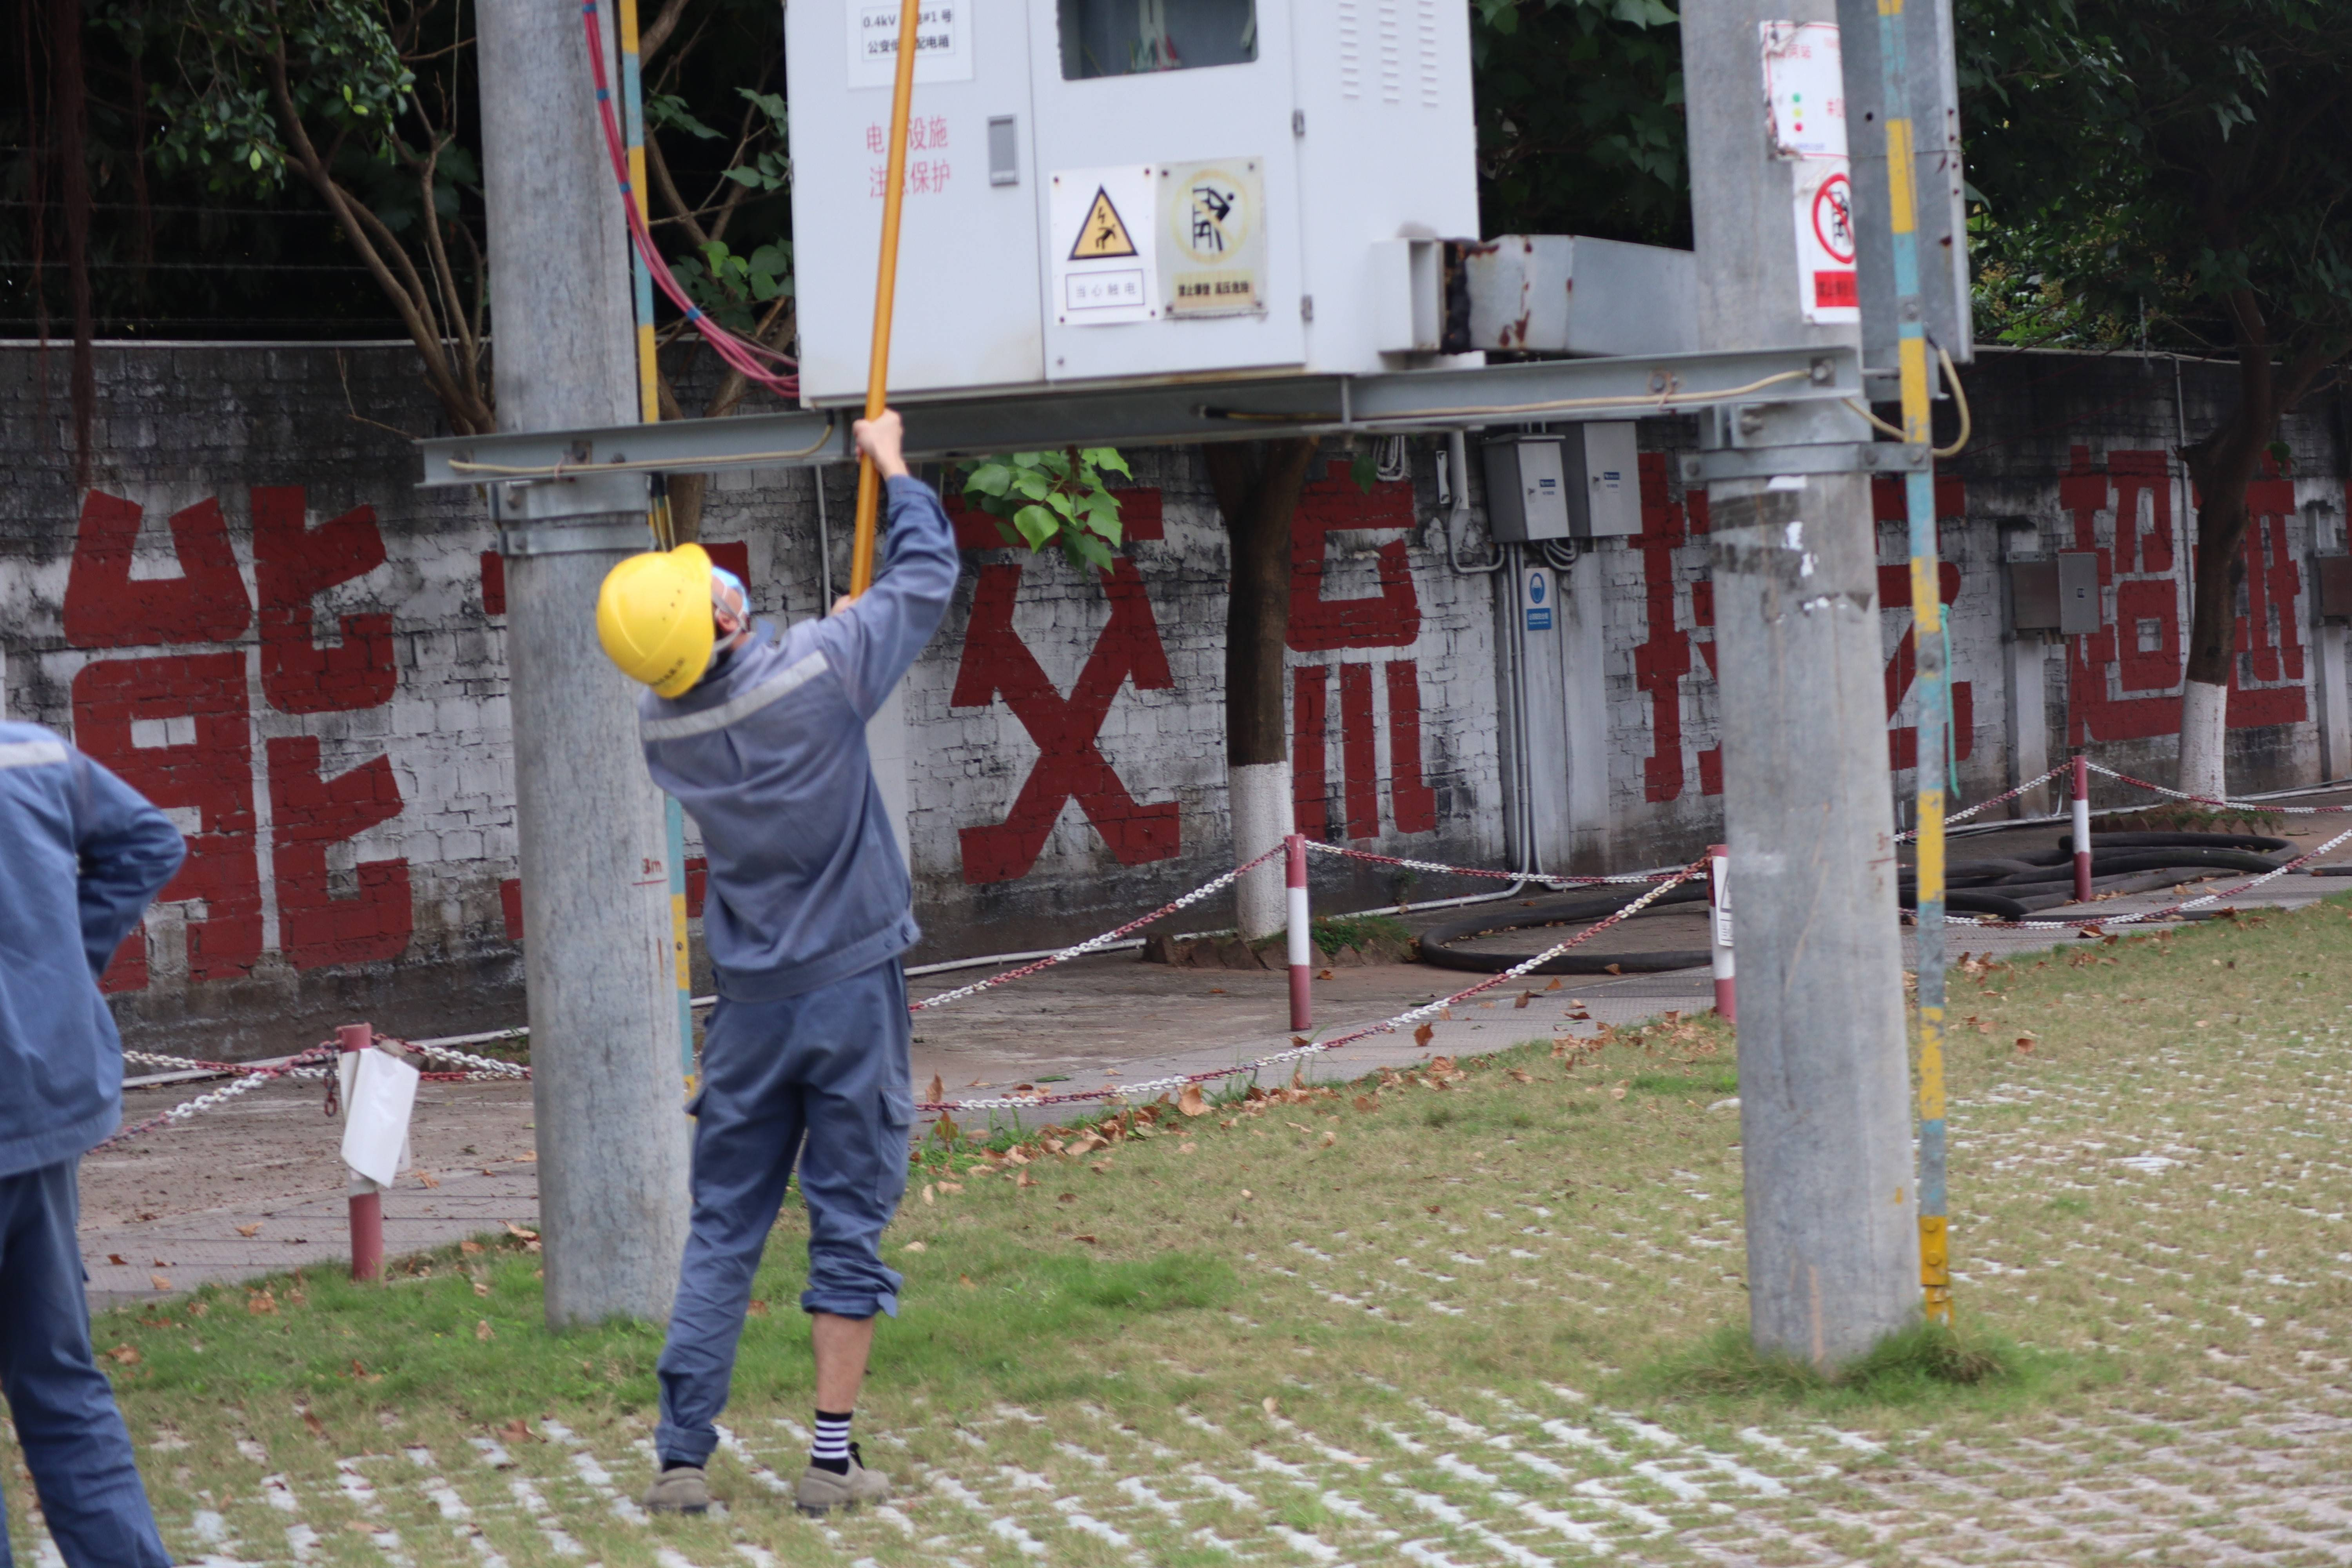downsuit: (644, 1001, 929, 1444), (2, 1160, 203, 1566)
upsuit: (649, 495, 950, 970), (2, 684, 154, 1160)
wrongbottom: (796, 1272, 889, 1465)
